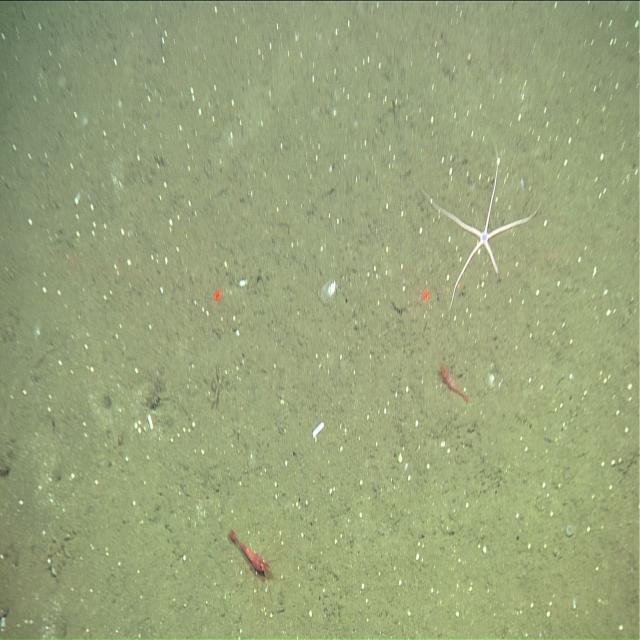Brittle Star: (423, 146, 541, 316)
Not Brittle Star: (226, 519, 275, 594), (438, 358, 472, 406), (319, 274, 340, 308)
